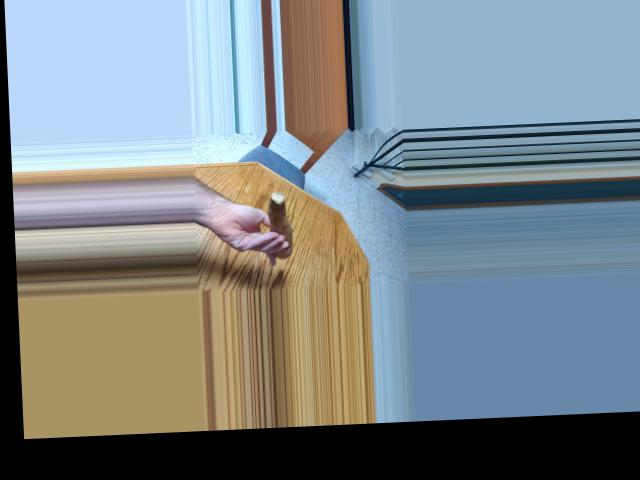sweet_potato: (262, 196, 296, 253)
